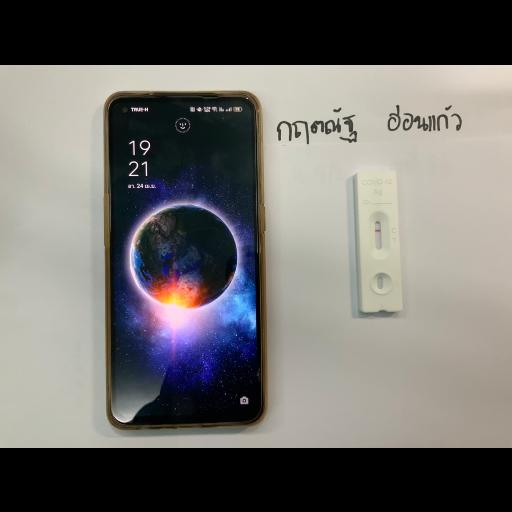Neg: (356, 168, 400, 310)
